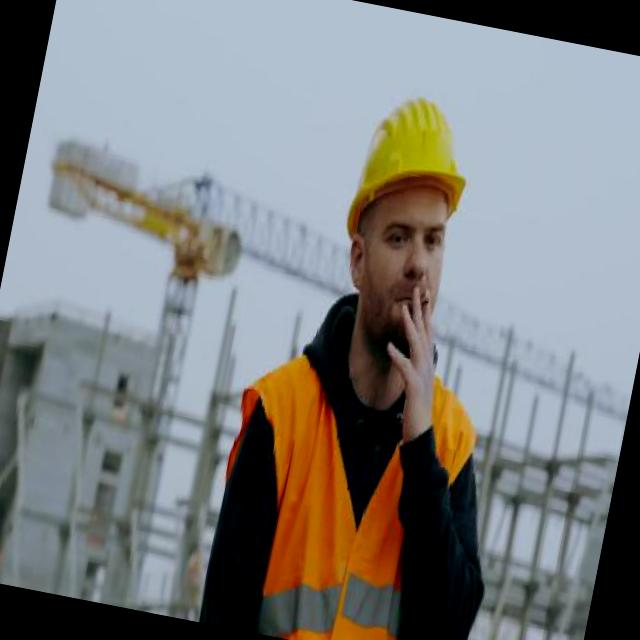smoke: (399, 279, 438, 338)
